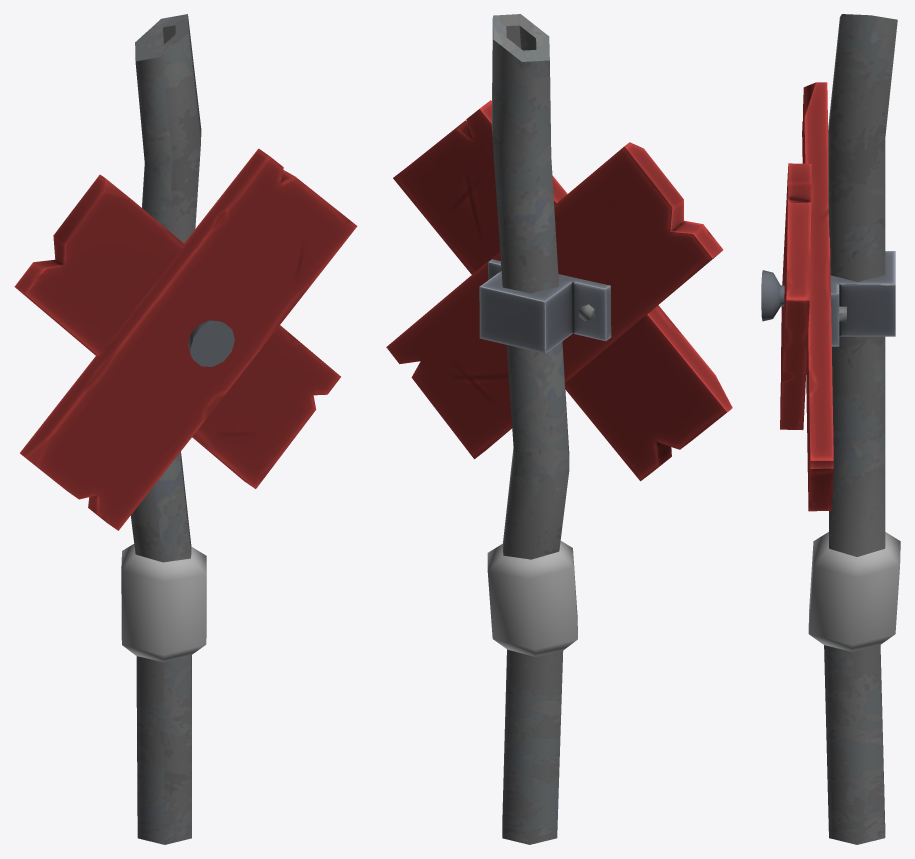
Rendered from hvs_hideout_sign03.fbx.
The picture shows the model from 3 angles, left to right: view 1: azimuth 30°, elevation 25°; view 2: azimuth 150°, elevation 25°; view 3: azimuth 270°, elevation 25°; orthographic projection. The views are drawn at different scales.
Parts seen in each view (by area): view 1: hvs_hideout_sign03; view 2: hvs_hideout_sign03; view 3: hvs_hideout_sign03.
Boxes of the visible parts, box(x1,y1,x2,y2) form: hvs_hideout_sign03: box(14, 14, 357, 844); hvs_hideout_sign03: box(386, 14, 732, 844); hvs_hideout_sign03: box(761, 14, 900, 844).
Size of the model in its own units: 4.24 by 9.92 by 1.51.
Materials: 1 (1 with a texture image).
